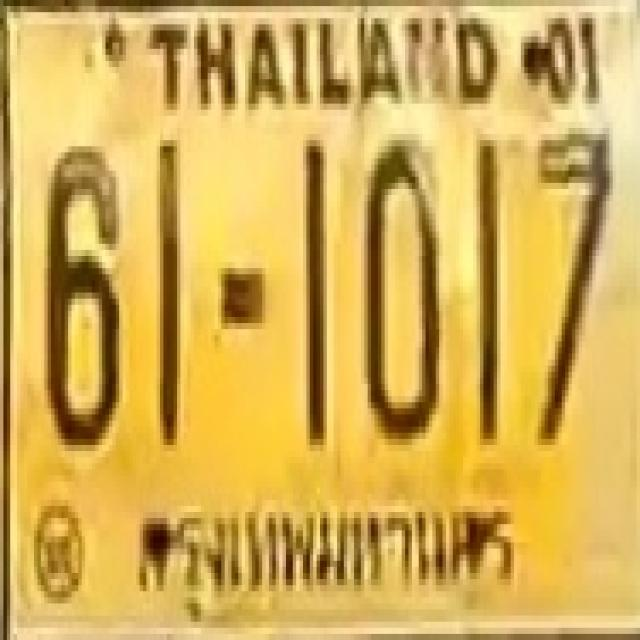0: (362, 134, 438, 433)
1: (155, 134, 179, 445), (473, 134, 497, 439), (303, 134, 323, 445)
6: (44, 143, 116, 442)
7: (534, 128, 610, 439)
BKK: (136, 489, 516, 599)
